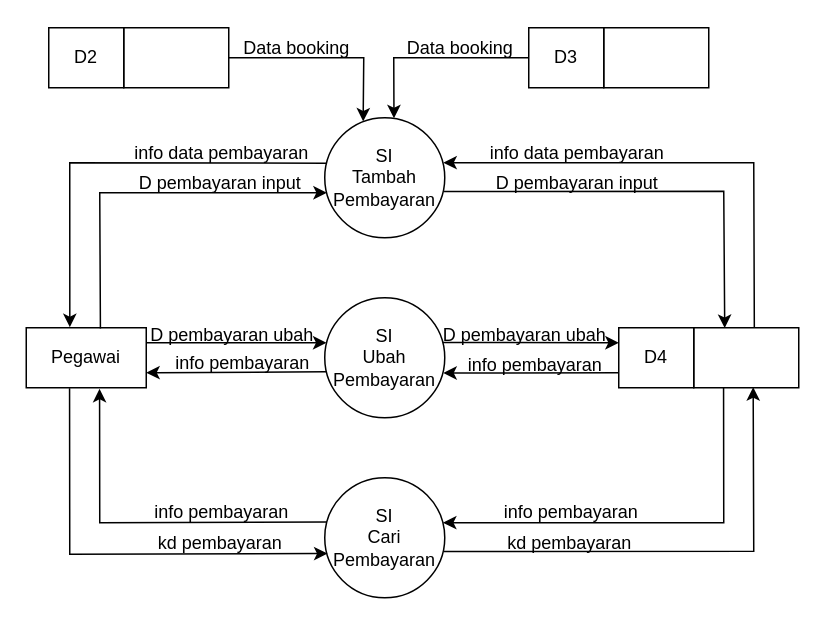
Some shapes in this 825 by 624 pixel diagram are drawn without their labels. Here are the shapes that lost their labels. From the top down, the box of each, then its label:
(122, 26, 229, 88): Booking
(602, 26, 709, 88): Layanan
(692, 326, 799, 388): Pembayaran
